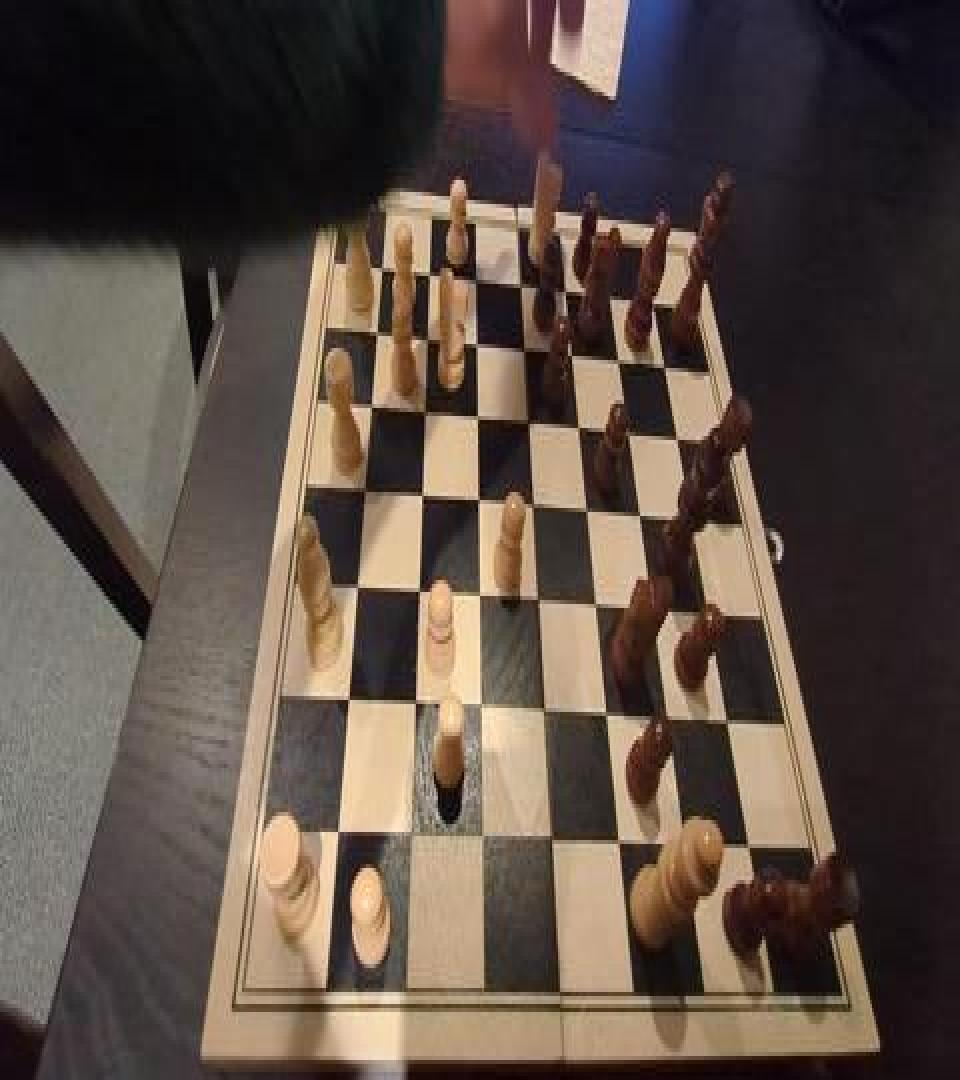xcorner: (647, 284, 663, 316), (603, 280, 619, 312), (559, 274, 575, 306), (514, 268, 530, 300), (469, 264, 485, 296), (422, 258, 438, 290), (375, 252, 391, 284), (658, 350, 674, 382), (612, 344, 628, 376), (565, 338, 581, 370), (517, 334, 533, 366), (469, 328, 485, 360), (420, 322, 436, 354), (370, 318, 386, 350), (670, 422, 686, 454), (621, 416, 637, 448), (572, 412, 588, 444), (521, 406, 537, 438), (470, 402, 486, 434), (417, 396, 433, 428), (364, 390, 380, 422), (684, 502, 700, 534), (632, 498, 648, 530), (579, 494, 595, 526), (525, 490, 541, 522), (470, 484, 486, 516), (415, 480, 431, 512), (358, 476, 374, 508), (700, 596, 716, 628), (645, 592, 661, 624), (588, 588, 604, 620), (530, 584, 546, 616), (471, 580, 487, 612), (411, 576, 427, 608), (350, 572, 366, 604), (719, 704, 735, 736), (659, 702, 675, 734), (598, 698, 614, 730), (536, 694, 552, 726), (472, 692, 488, 724), (407, 688, 423, 720), (341, 684, 357, 716), (740, 830, 756, 862), (676, 828, 692, 860), (610, 826, 626, 858), (542, 824, 558, 856), (473, 822, 489, 854), (403, 820, 419, 852), (330, 818, 346, 850)
